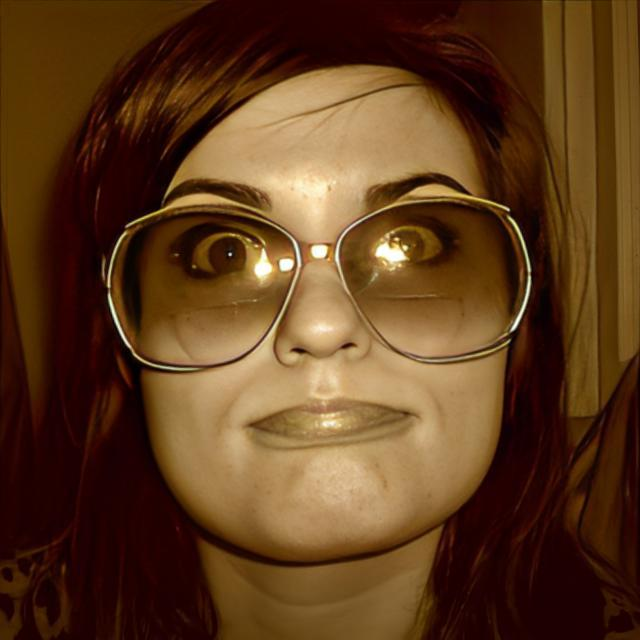surprise: (132, 63, 512, 566)
